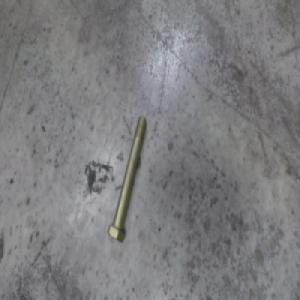Bolt: (108, 119, 146, 246)
